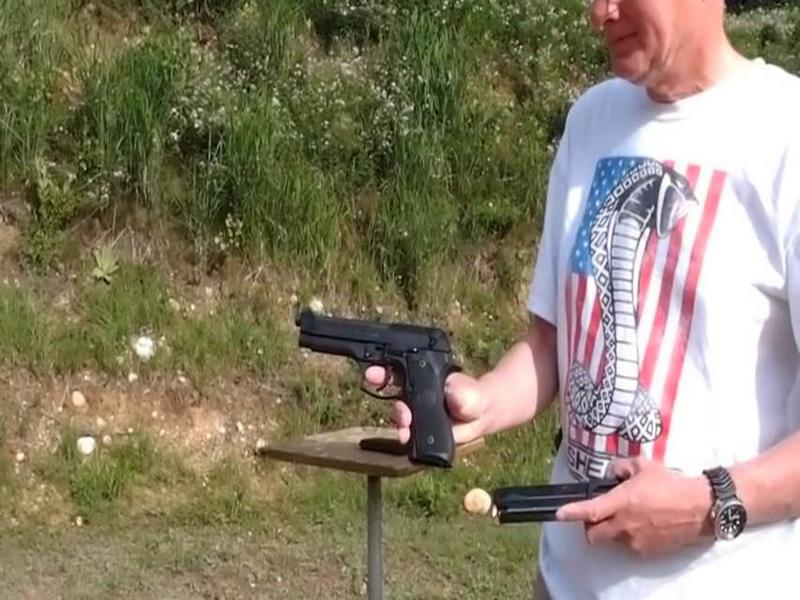Pistola: (292, 294, 477, 494)
